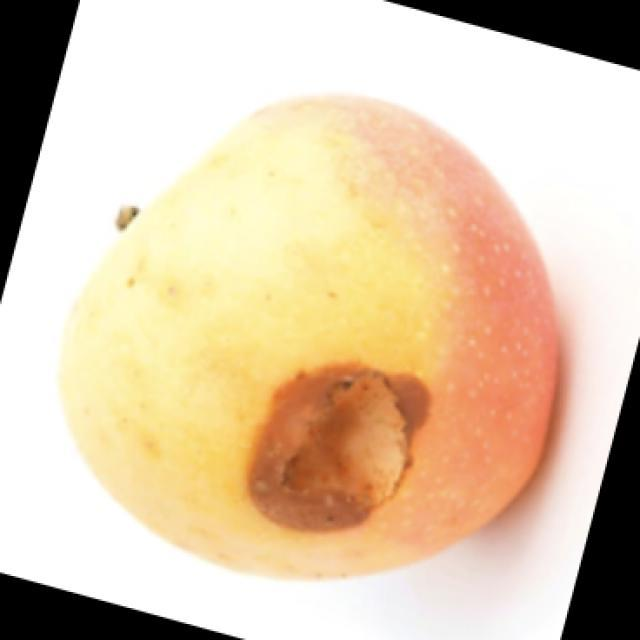Rotten: (86, 112, 562, 580)
